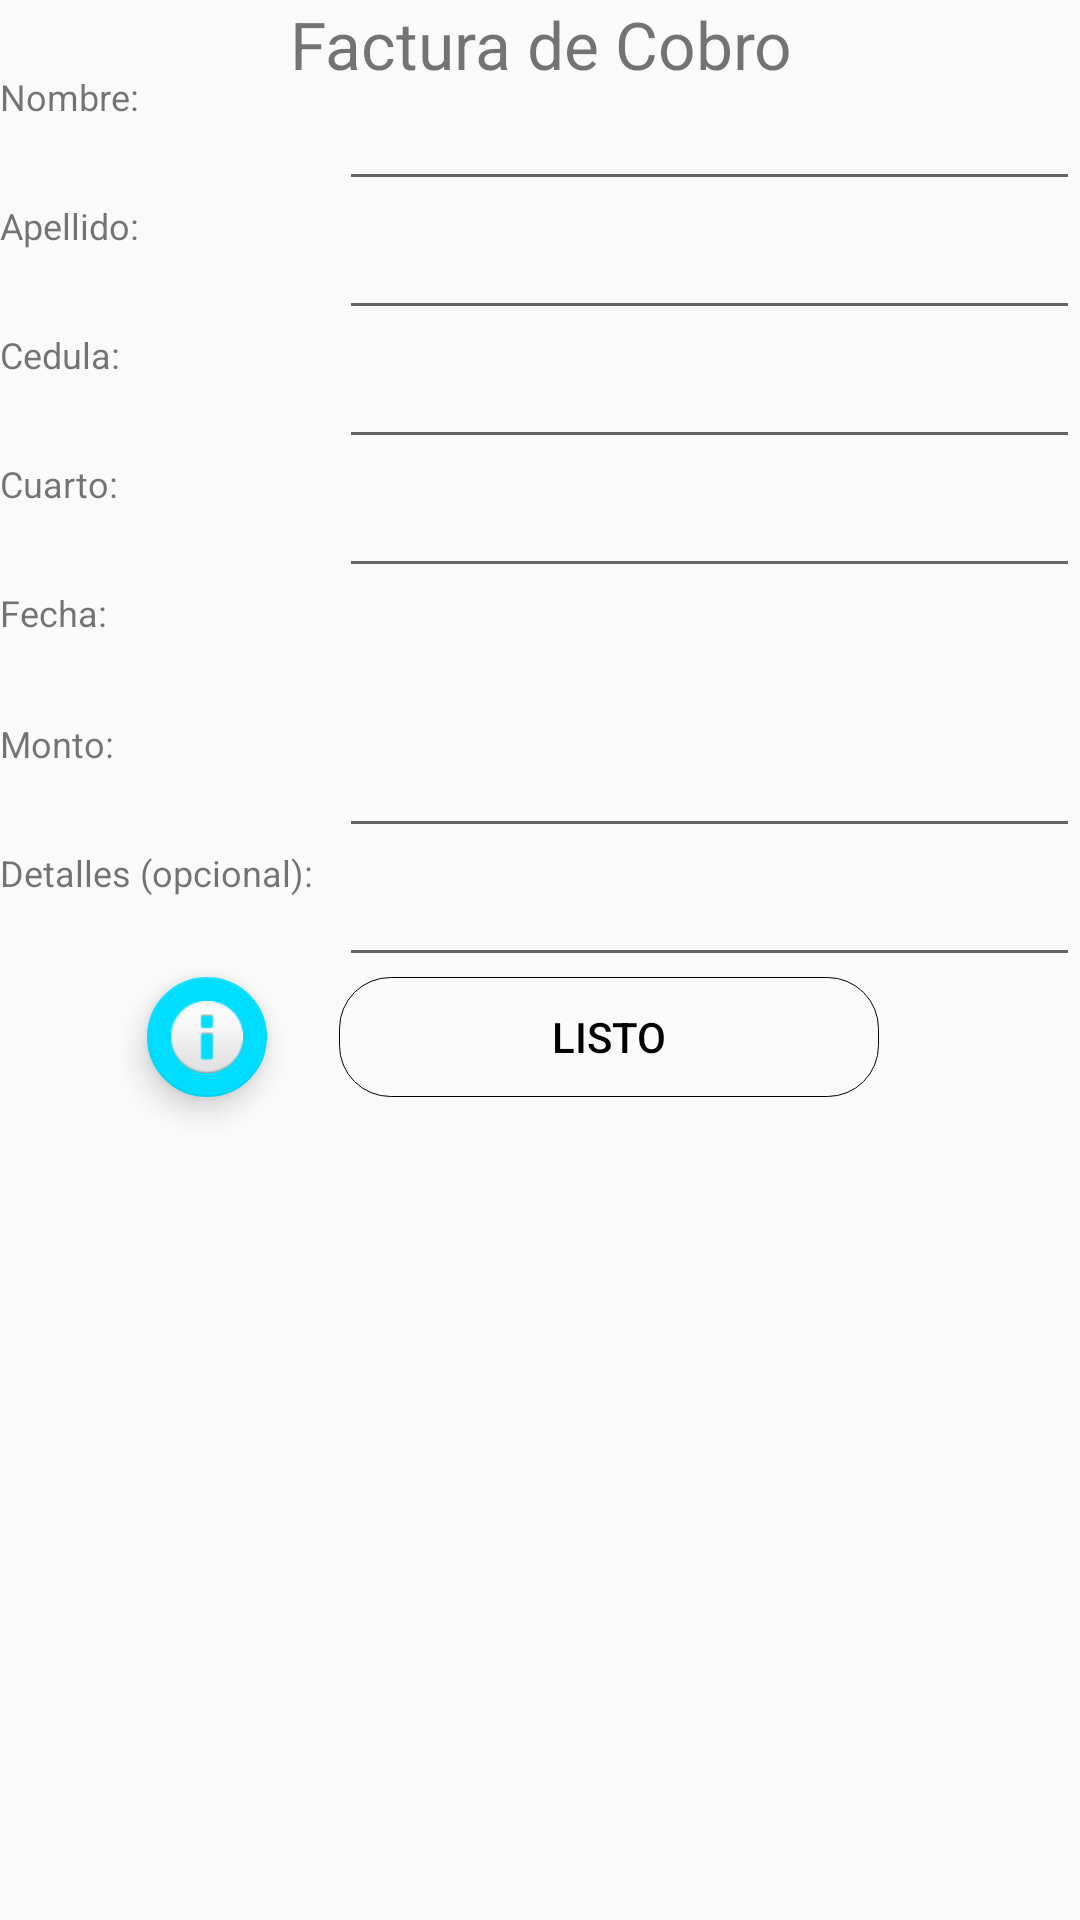

Where icons sit on this 1080x1920 app screen, as (x1, y1, x2, y2):
info: (147, 977, 267, 1097)
